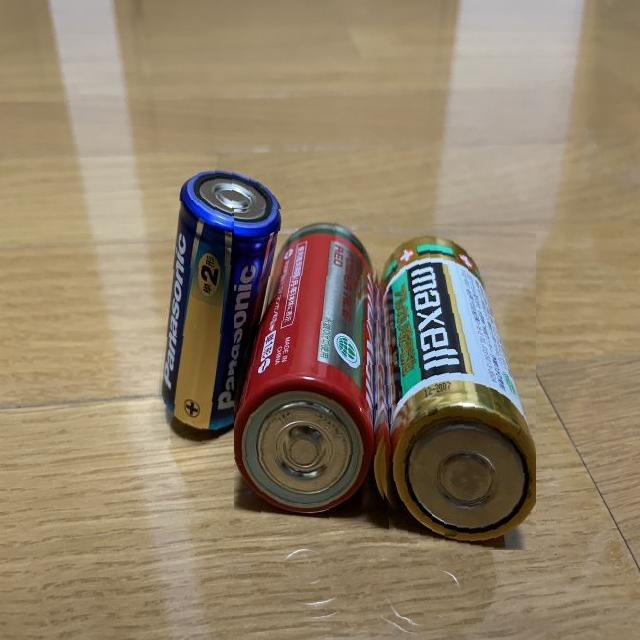battery: (373, 220, 536, 550), (234, 210, 390, 526), (155, 168, 285, 446)
